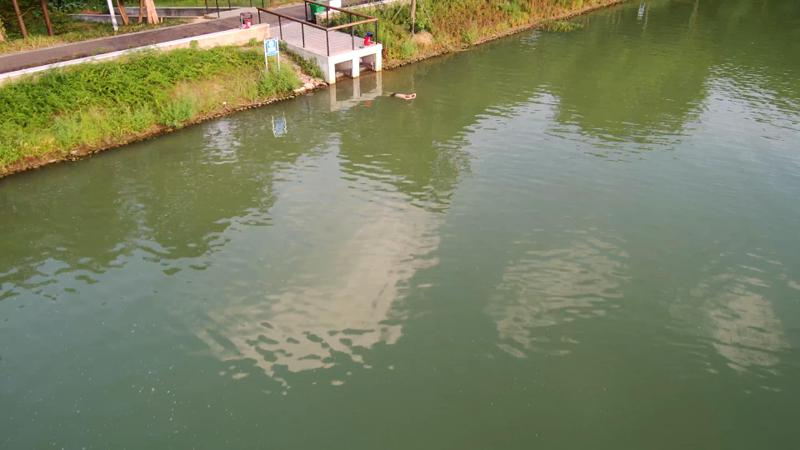swimmers: (384, 91, 417, 101)
